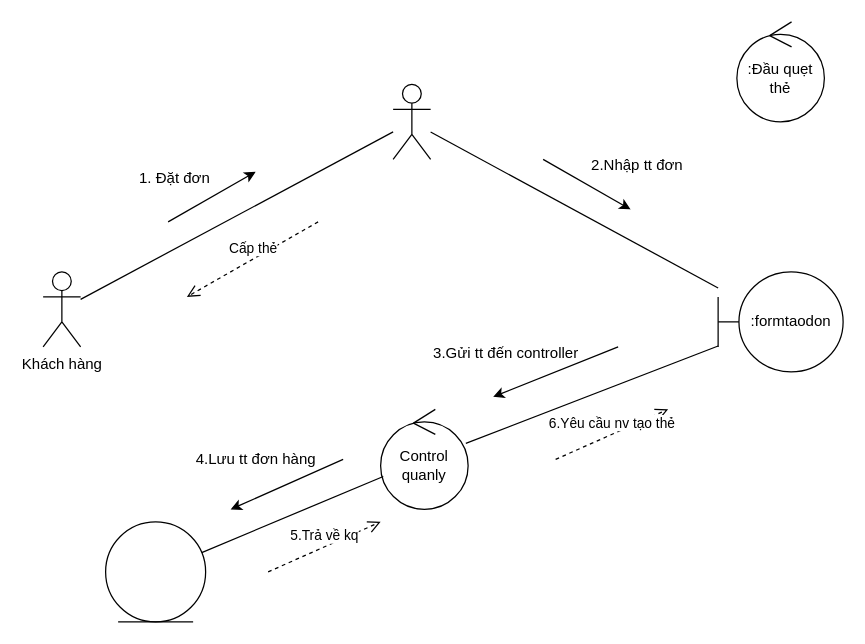
Image size: 865x644. Some labels were removed from this diagram. Each missing label, with the centre of its shape:
"donhang" belongs at point 155,571.
"Nhân viên" belongs at point 411,121.
